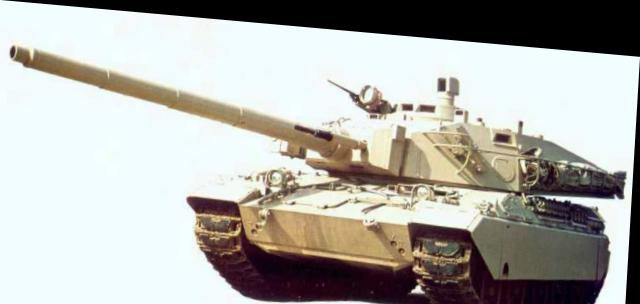tank: (185, 48, 622, 302)
